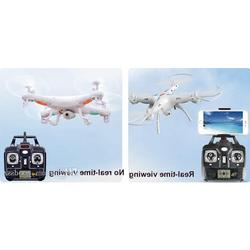drone: (129, 73, 226, 135), (14, 76, 115, 127)
